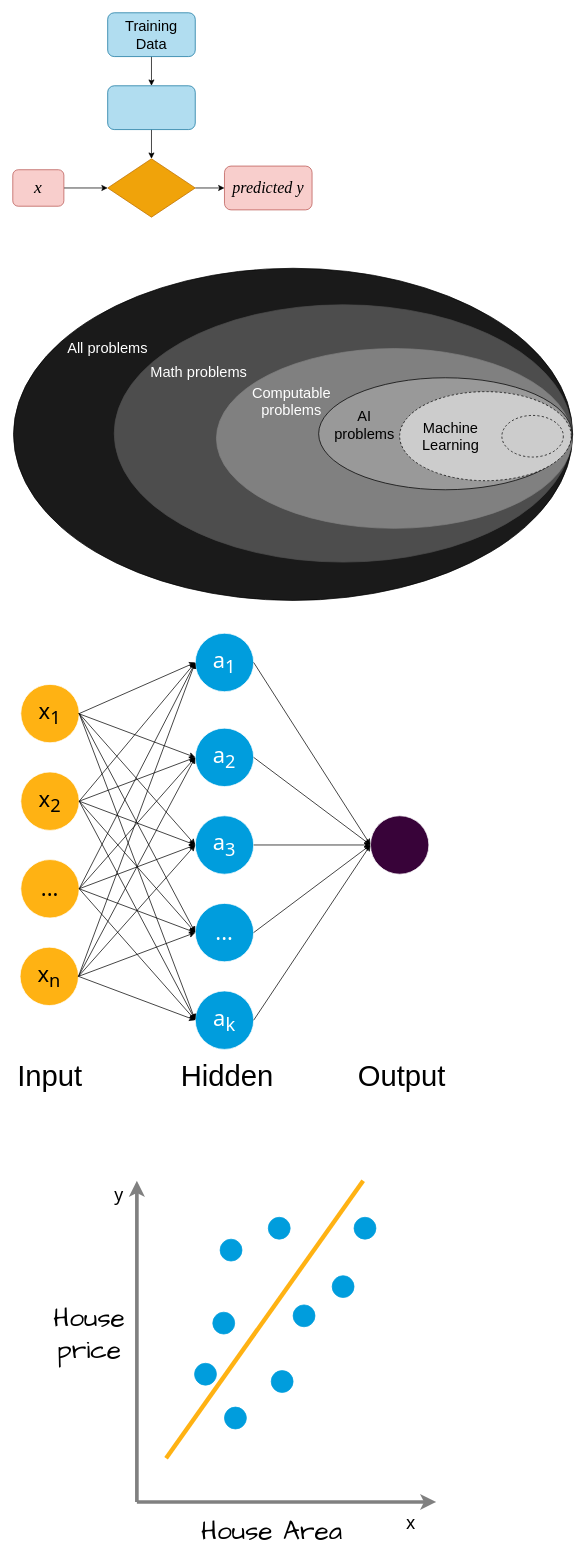
This 585x1561 diagram has some shape labels left out. Here are the shapes that lost their labels. From the top down, the box of each, then its label:
(107, 85, 195, 130): Learning Algorithm
(107, 158, 195, 217): f(x)
(501, 415, 563, 457): Deep Learning
(370, 815, 429, 874): ŷ
